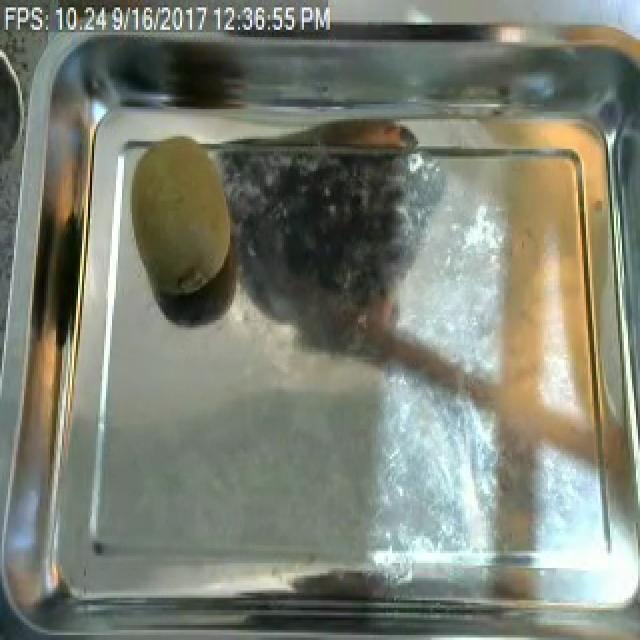Fruit: (110, 134, 246, 310)
